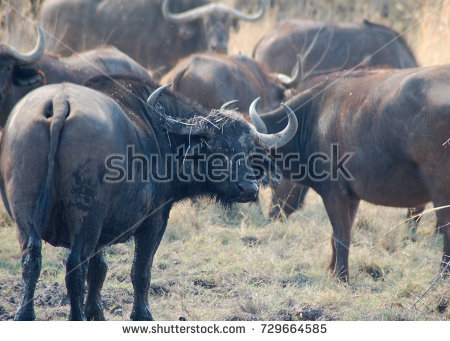buffalo: (5, 86, 295, 322), (226, 64, 450, 270)
